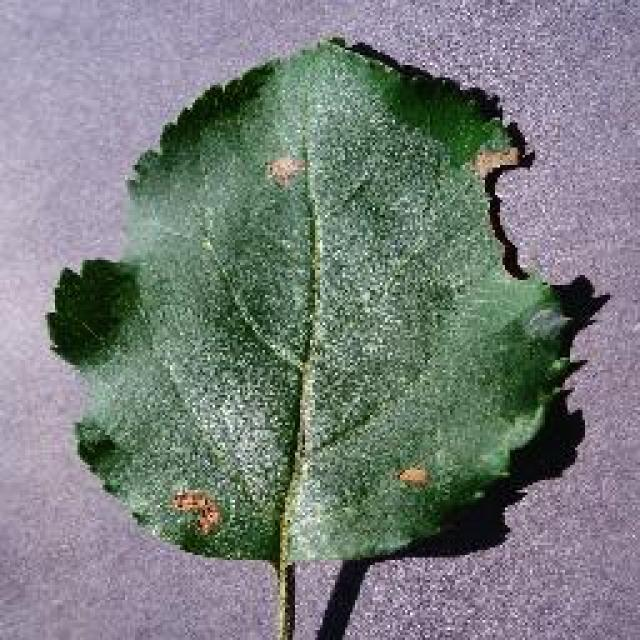Apple___Black_rot: (83, 76, 560, 558)
